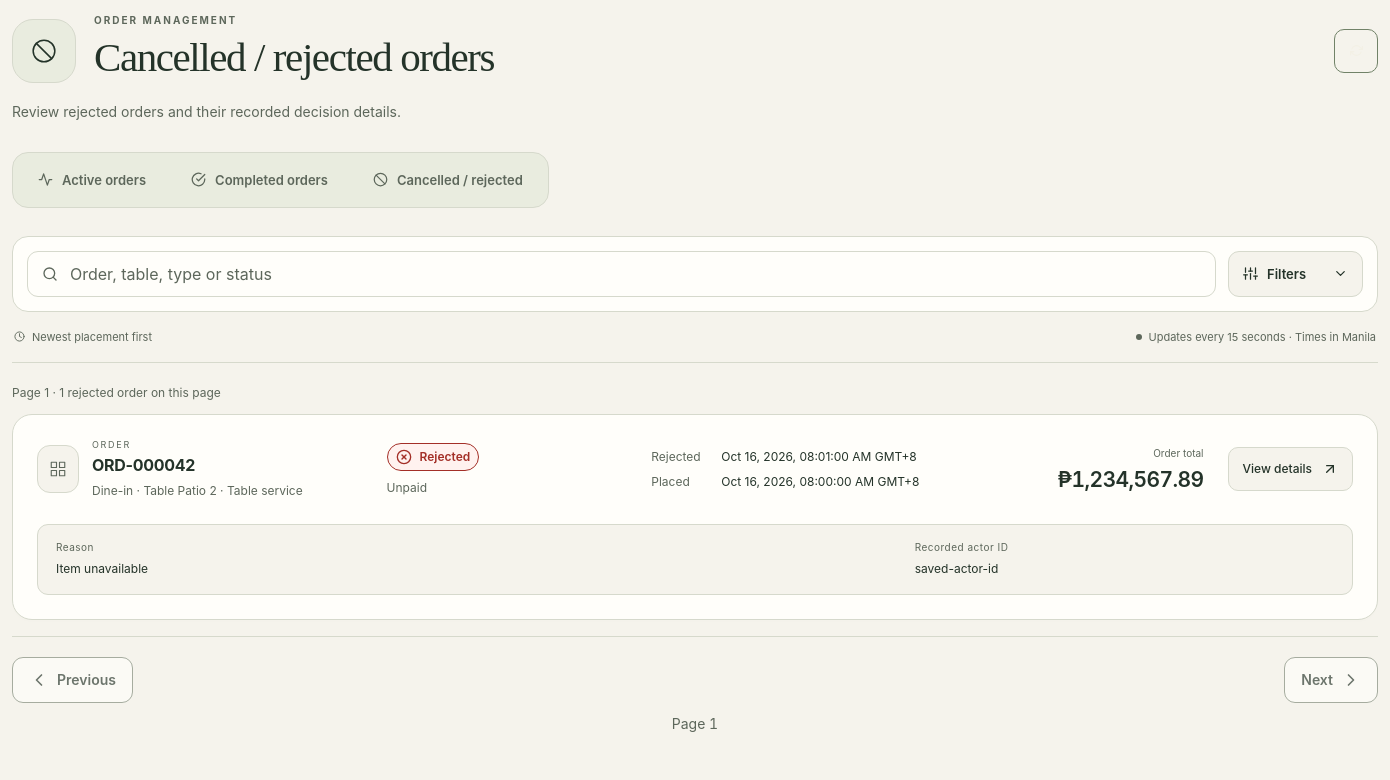
hides stale history on refresh failure and recovers with retry
The image size is (1390, 780).
Expected: the heading "ORD-000042" is shown, [92,455,195,475]
Click the button named "Refresh".
click(1356, 51)  # box [1334,29,1378,73]
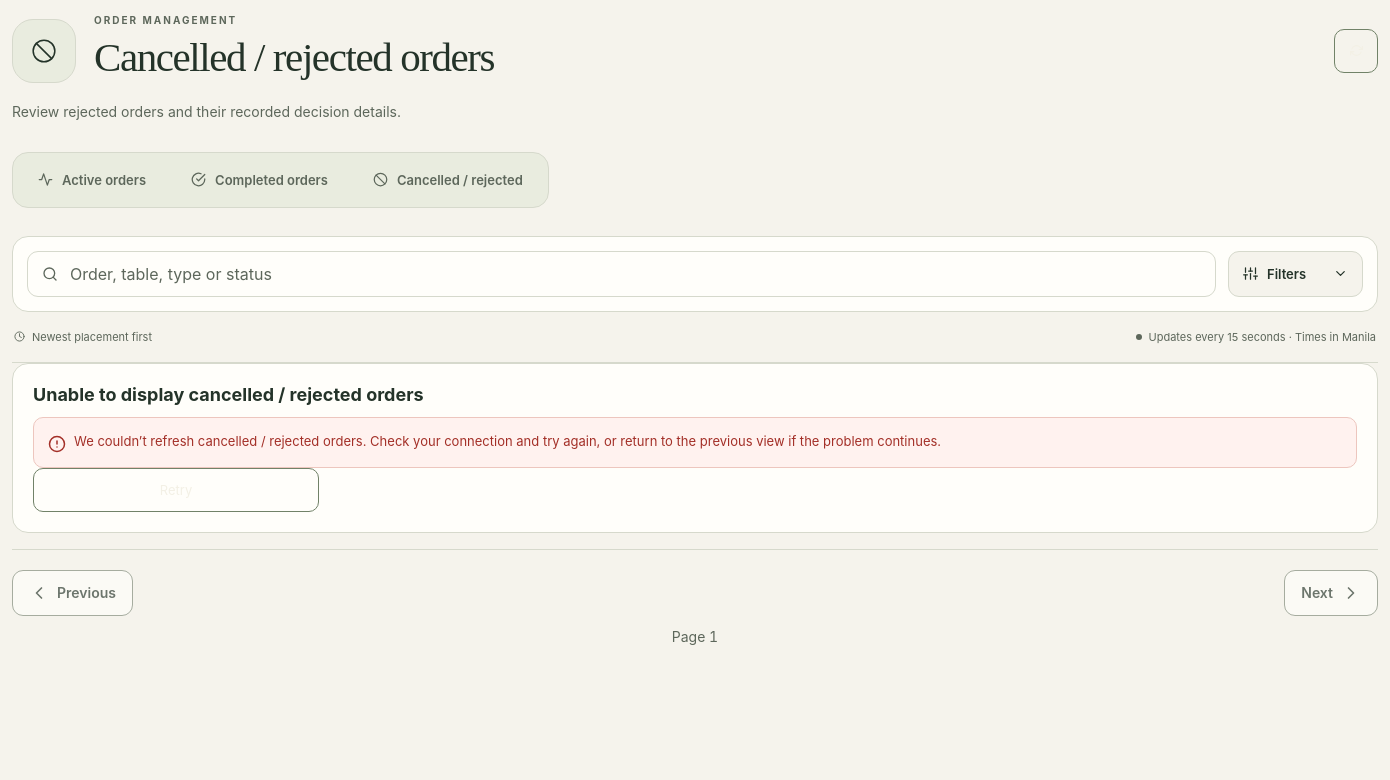
Now the 1st message is shown, box [33,417,1357,468]
Now the heading "ORD-000042" is gone
Now the text "Item unavailable" is gone
Click the button "Retry".
click(176, 490)  # box [33,468,319,512]
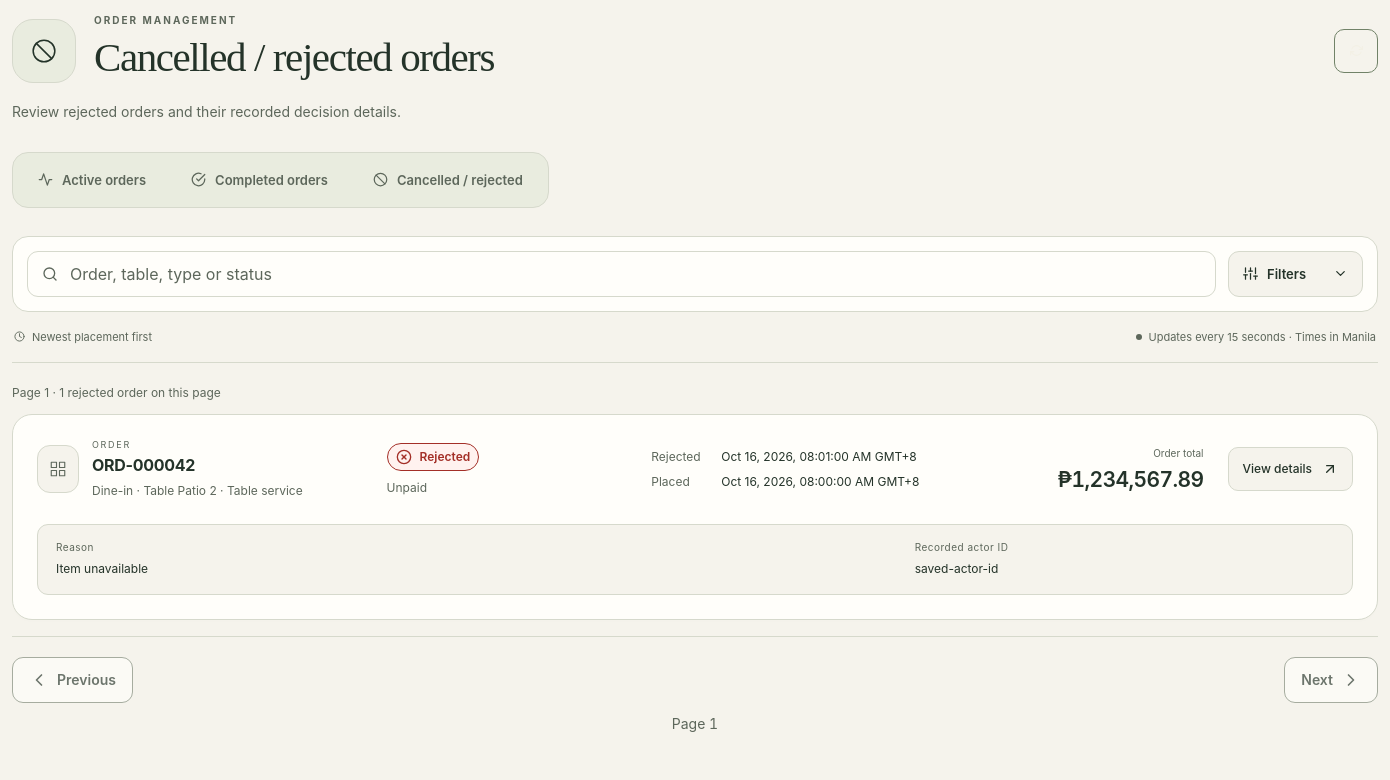
Now the heading "ORD-000042" is shown, box [92,455,195,475]
